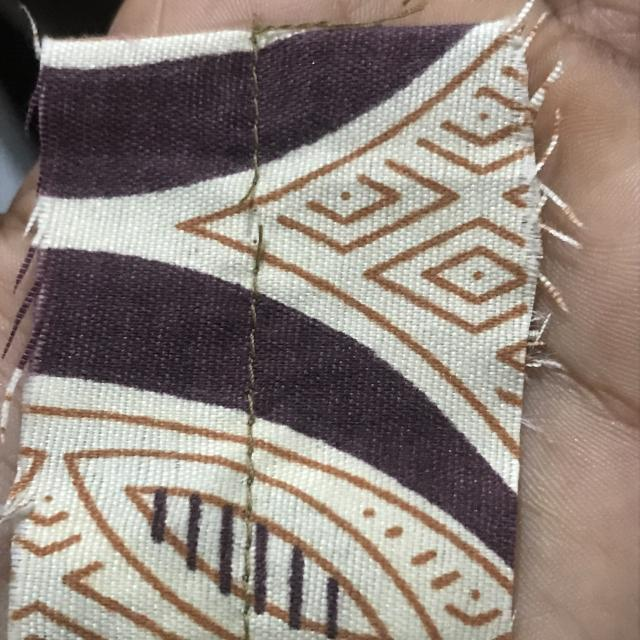broken: (231, 148, 289, 277)
good: (231, 307, 274, 452)
